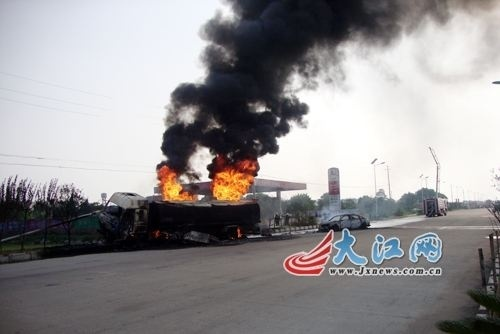fire: (211, 157, 257, 202), (158, 166, 196, 201)
